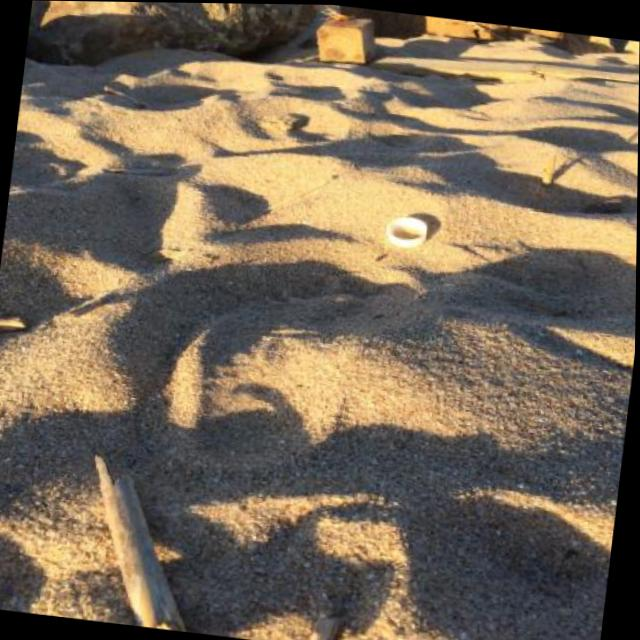plastic: (382, 211, 432, 251)
